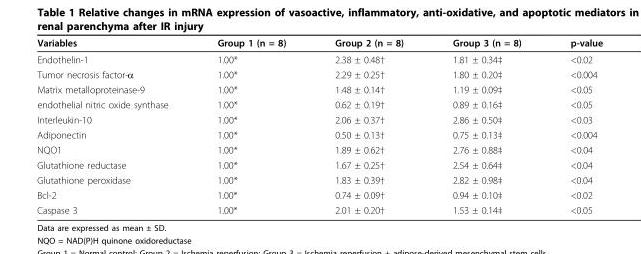table: (36, 36, 602, 215)
table column: (36, 36, 192, 215), (309, 36, 427, 215), (427, 36, 545, 215), (192, 36, 309, 215), (545, 36, 602, 215)
table column header: (36, 36, 602, 50)
table row: (36, 65, 602, 81), (36, 141, 602, 157), (36, 50, 602, 65), (36, 81, 602, 96), (36, 96, 602, 111), (36, 111, 602, 126), (36, 126, 602, 141), (36, 157, 602, 172), (36, 172, 602, 187), (36, 187, 602, 202), (36, 36, 602, 50), (36, 202, 602, 215)
